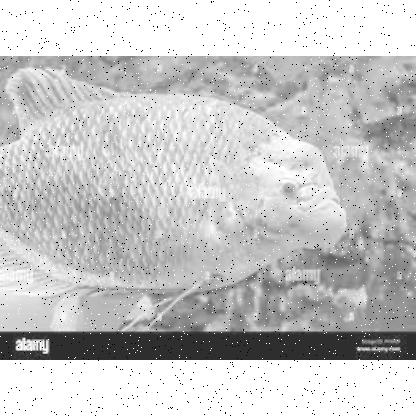gurame: (0, 69, 346, 287)
